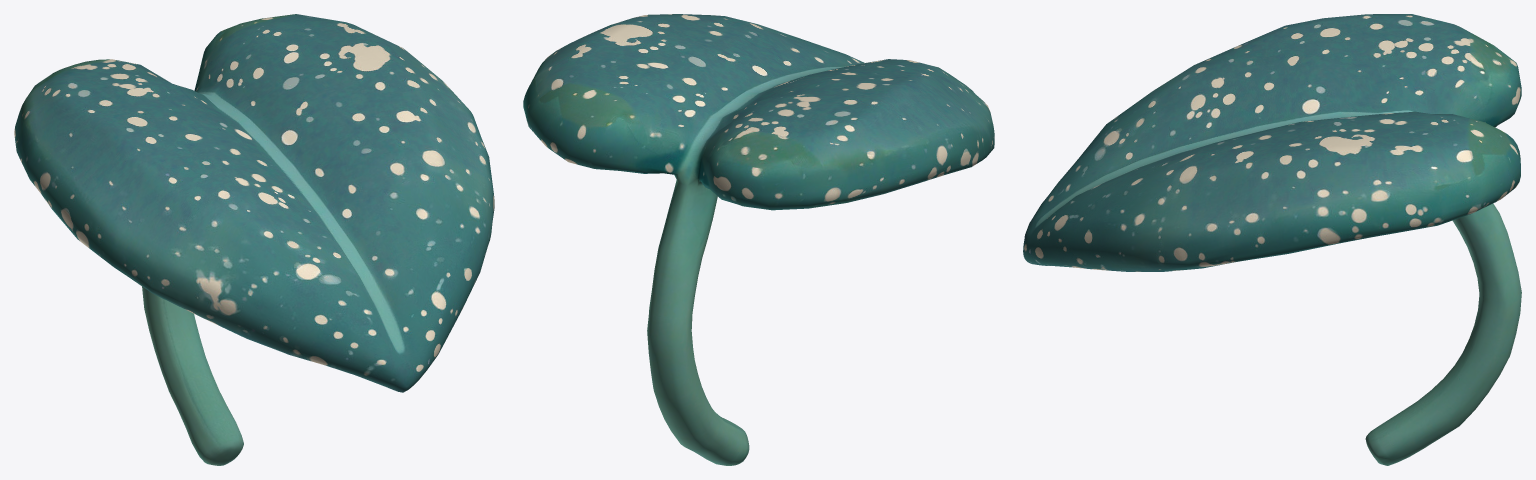
File: heart_speckle_2657_v1.glb
3 renders of one model, left to right at view 1: azimuth 30°, elevation 25°; view 2: azimuth 150°, elevation 25°; view 3: azimuth 270°, elevation 25°, orthographic. The views are drawn at different scales.
Parts seen in each view (by area): view 1: world; view 2: world; view 3: world.
Part boxes in pixels (<box>): world: <box>14,14,494,465</box>; world: <box>523,14,994,465</box>; world: <box>1023,14,1521,465</box>.
Size of the model in its own units: 1.79 by 1.69 by 2.
Materials: 1 (1 with a texture image).
